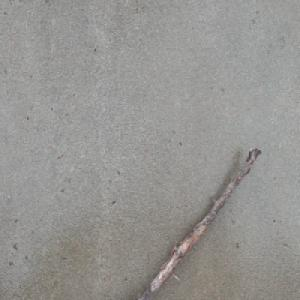Wood: (133, 145, 263, 300)
